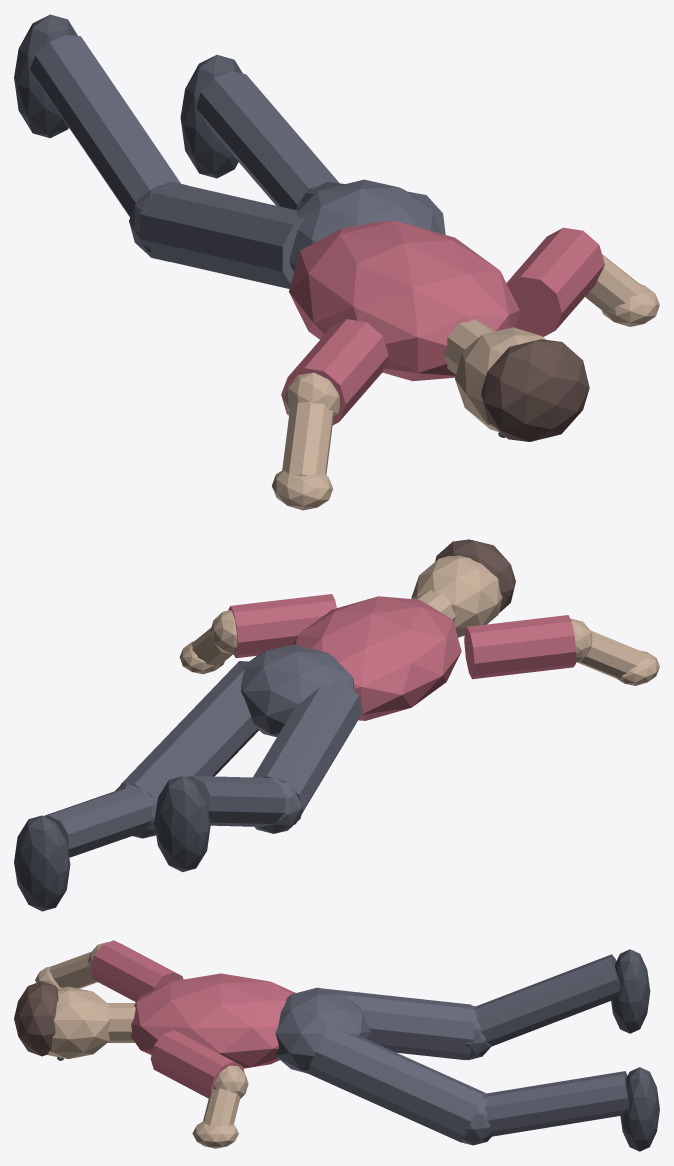
3 views of the same model, one above another, from view 1: azimuth 30°, elevation 25°; view 2: azimuth 150°, elevation 25°; view 3: azimuth 270°, elevation 25° (orthographic). The views are drawn at different scales.
Parts seen in each view (by area): view 1: world; view 2: world; view 3: world.
Boxes of the visible parts, box(x1,y1,x2,y2) form: world: box(14, 14, 659, 510); world: box(14, 539, 659, 911); world: box(14, 940, 659, 1151).
Size of the model in its own units: 1.25 by 0.5125 by 2.07.
